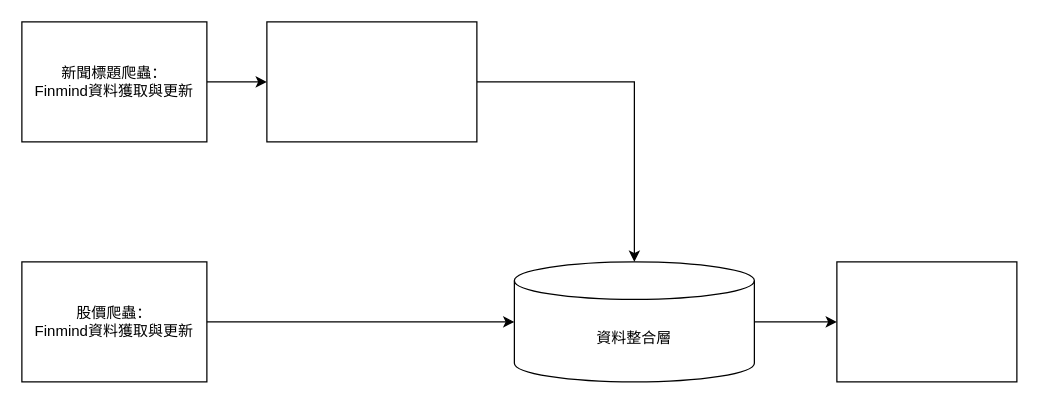
The diagram is 1039 pixels wide and 404 high, and some of its shapes have lost their labels. The box of each missing label's shape, as (x1, y1, x2, y2) in pixels:
資料處理層： 資料清洗/ 斷詞(jieba等等)/ 字典評分(台大中文情緒詞典): (266, 21, 477, 142)
資料輸出層 (如互動儀表板): (836, 261, 1017, 382)
